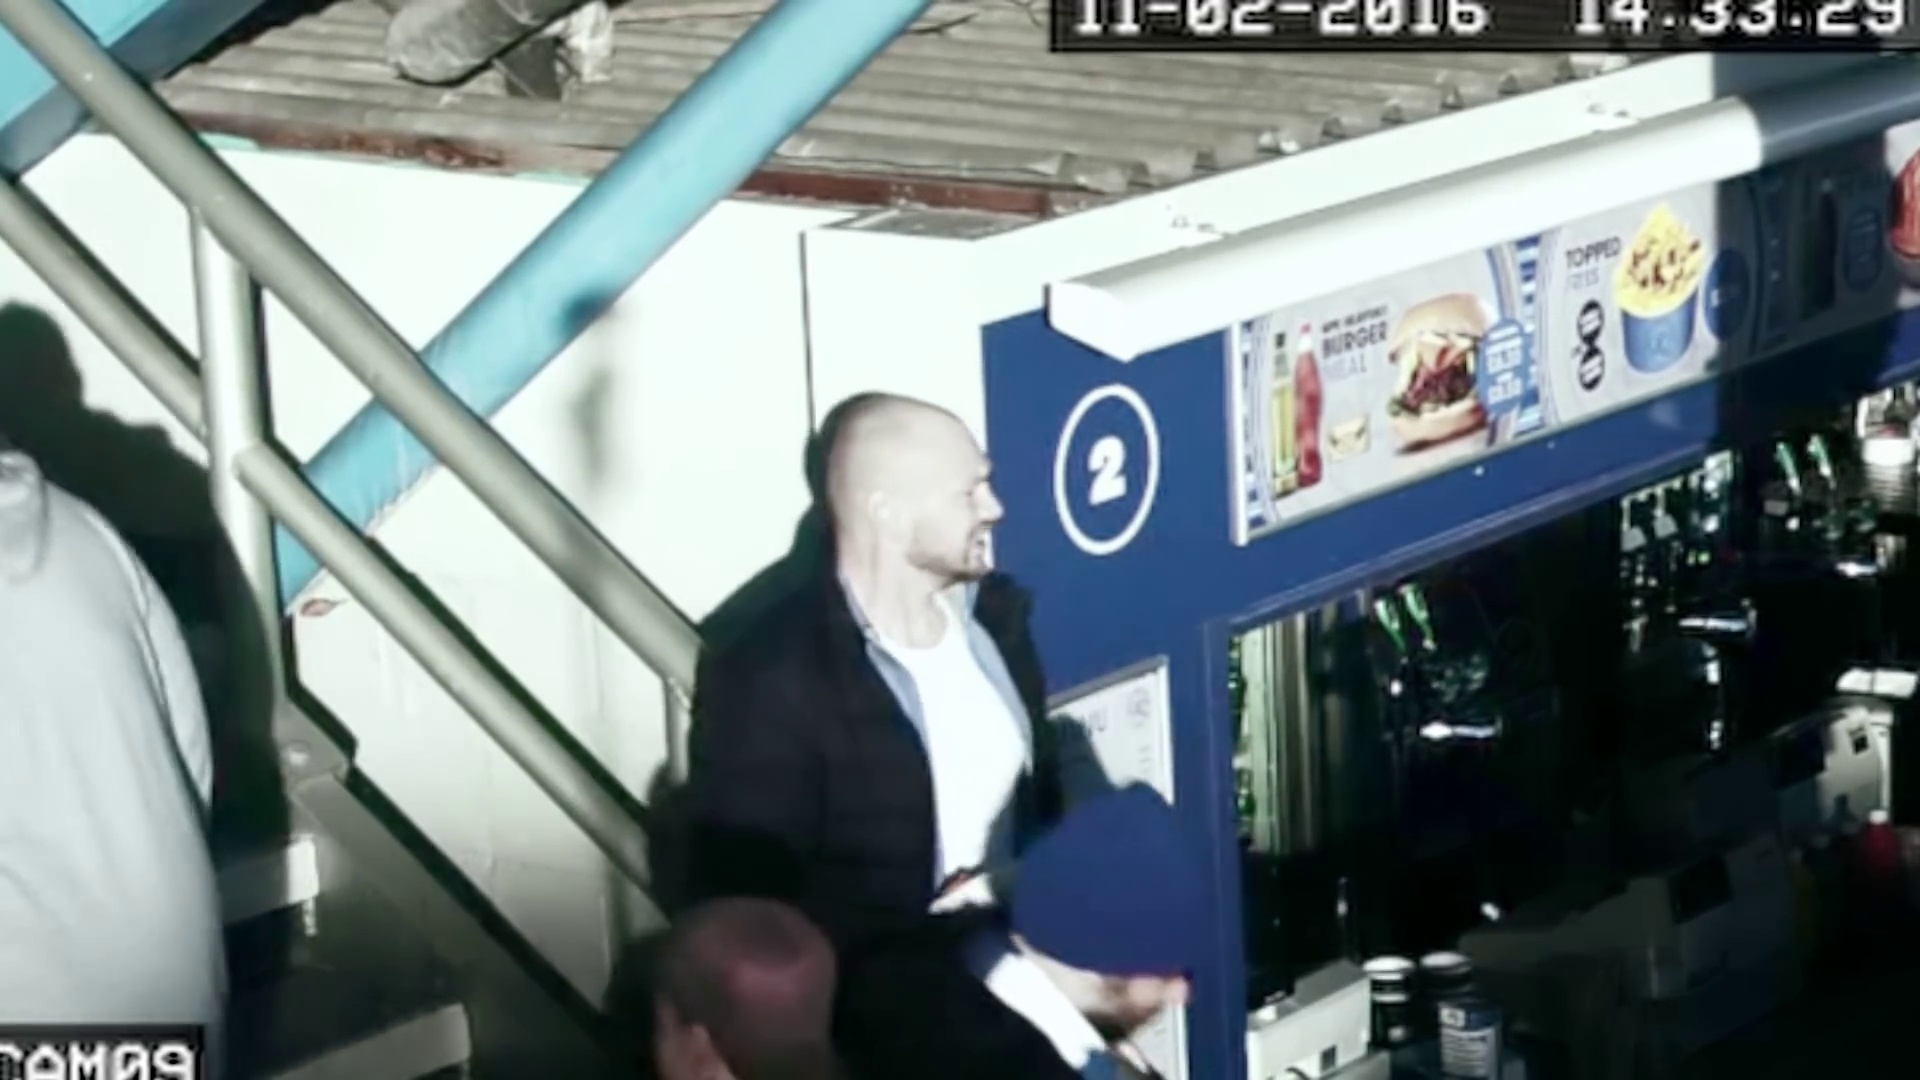face: (902, 436, 1015, 590)
